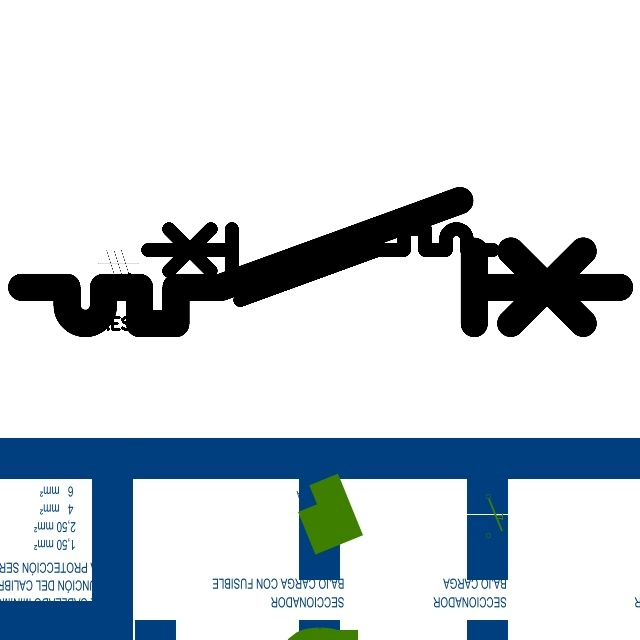interruptor_termomagnetico: (6, 185, 634, 339), (139, 220, 502, 309)
